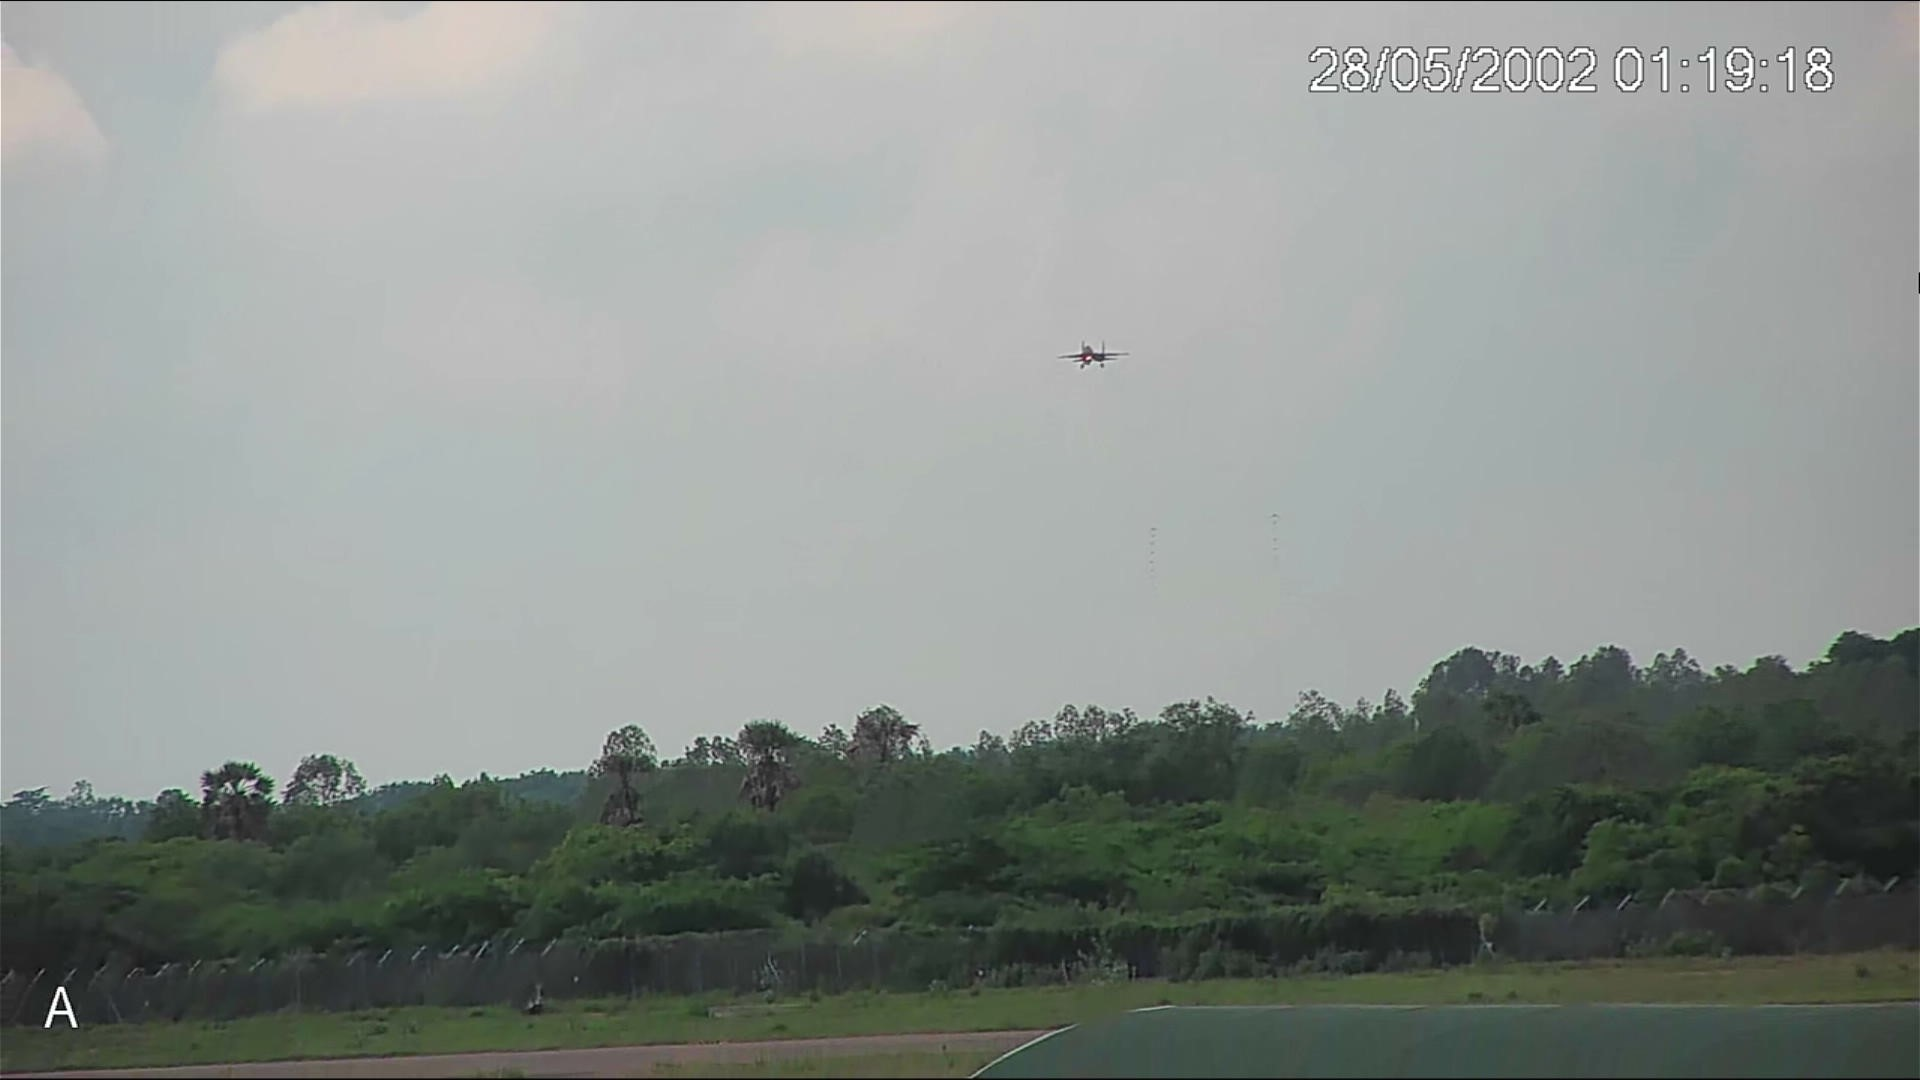SU_30: (1055, 339, 1130, 371)
